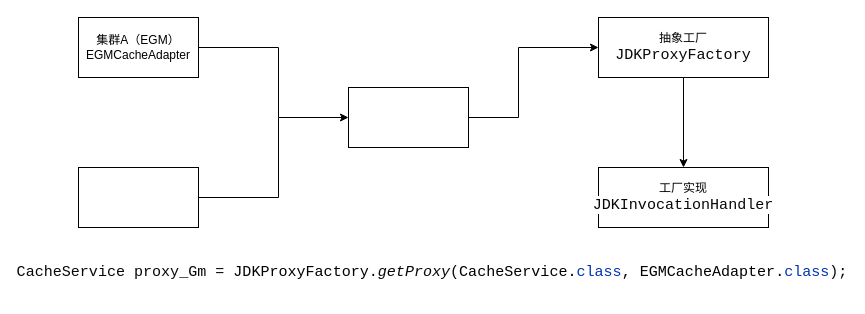
The diagram is 865 pixels wide and 314 high, and some of its shapes have lost their labels. The shapes that lost their labels are listed below. From the top down, each one's box as (x1, y1, x2, y2) in pixels, then its label:
(348, 86, 468, 148): 适配器接口 ICacheAdapter
(78, 166, 198, 228): 集群B（IIR） IIRCacheAdapter
